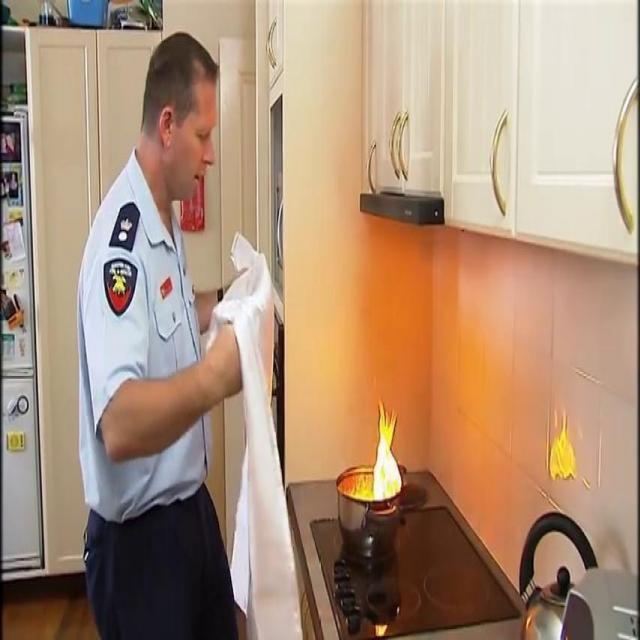fire: (370, 402, 402, 501)
